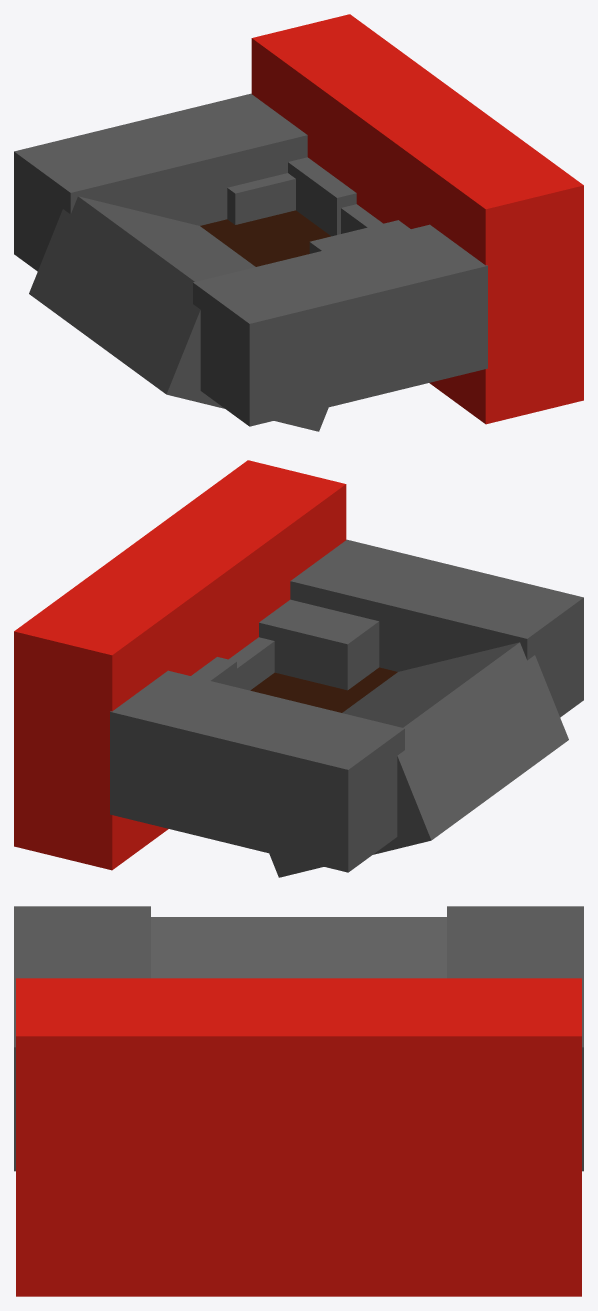
File: Quarry.fbx
The picture shows the model from 3 angles, top to bottom: view 1: azimuth 30°, elevation 25°; view 2: azimuth 150°, elevation 25°; view 3: azimuth 270°, elevation 25°; orthographic projection. The views are drawn at different scales.
Parts seen in each view (by area): view 1: Cube, Cube.001, Cube.003, Cube.002, Plane, Cube.004, Cube.005, Cube.007, Cube.006; view 2: Cube, Cube.003, Cube.002, Cube.001, Cube.007, Plane, Cube.006, Cube.004; view 3: Cube, Cube.002, Cube.001, Cube.003.
Part boxes in pixels (<box>): Cube: <box>251,14,583,424</box>; Cube.001: <box>193,224,487,426</box>; Cube.003: <box>14,93,307,271</box>; Cube.002: <box>29,196,328,431</box>; Plane: <box>200,210,330,266</box>; Cube.004: <box>288,157,356,236</box>; Cube.005: <box>227,173,295,224</box>; Cube.007: <box>309,220,410,253</box>; Cube.006: <box>341,204,382,233</box>; Cube: <box>14,460,346,870</box>; Cube.003: <box>110,670,404,872</box>; Cube.002: <box>269,642,568,877</box>; Cube.001: <box>290,539,583,717</box>; Cube.007: <box>259,599,379,690</box>; Plane: <box>250,667,397,712</box>; Cube.006: <box>228,637,274,690</box>; Cube.004: <box>191,657,236,687</box>; Cube: <box>16,978,581,1296</box>; Cube.002: <box>151,917,446,978</box>; Cube.001: <box>14,906,150,1171</box>; Cube.003: <box>447,906,583,1171</box>.
Size of the model in its own units: 310 by 183 by 342.
